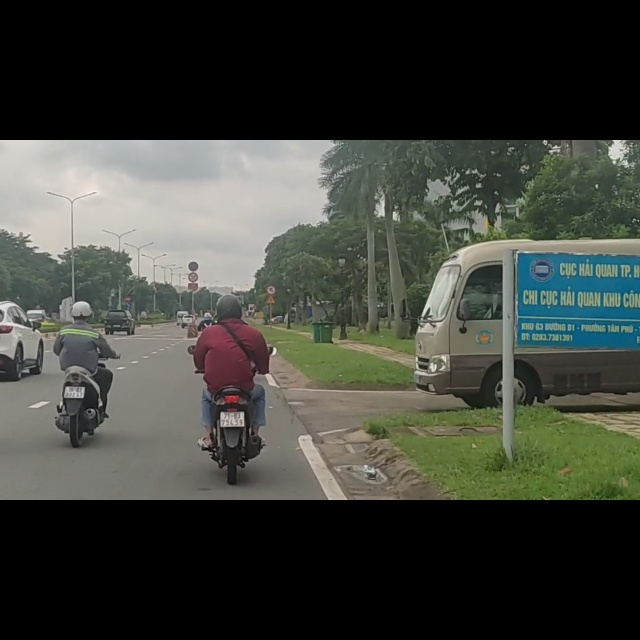bien_nguy_hiem: (188, 215, 199, 233), (188, 235, 199, 252), (267, 257, 277, 274), (266, 277, 276, 292), (125, 276, 131, 287), (125, 288, 131, 297)
